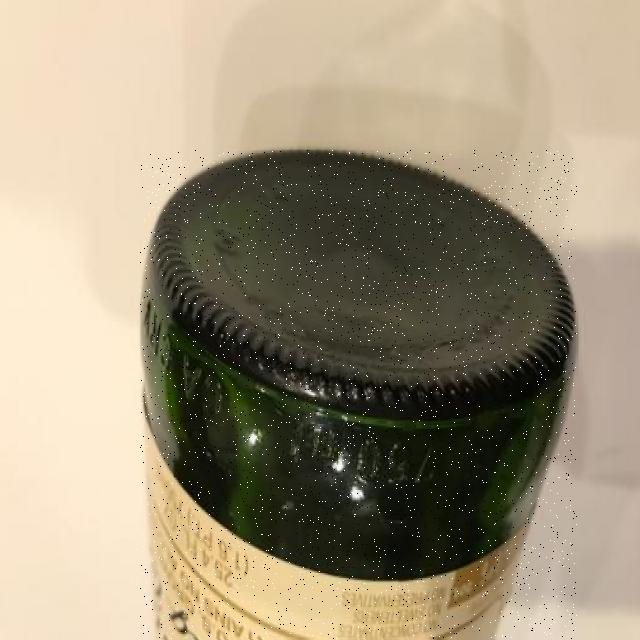glass: (141, 151, 577, 639)
